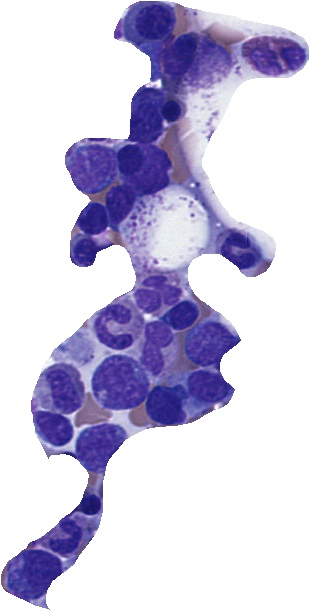objectness: (132, 269, 182, 319), (90, 299, 140, 349), (211, 222, 261, 272), (45, 513, 95, 563), (10, 546, 60, 596), (37, 364, 87, 414), (250, 27, 300, 77), (66, 141, 116, 191), (142, 382, 192, 432), (68, 194, 118, 244), (185, 318, 235, 368), (26, 403, 76, 453), (185, 362, 235, 412), (155, 292, 205, 342), (120, 141, 170, 191), (171, 36, 221, 86), (66, 480, 116, 530), (96, 178, 146, 228), (131, 326, 181, 376), (119, 91, 169, 141), (71, 420, 121, 470), (147, 86, 197, 136), (59, 225, 109, 275), (94, 356, 144, 406), (127, 0, 177, 46)
